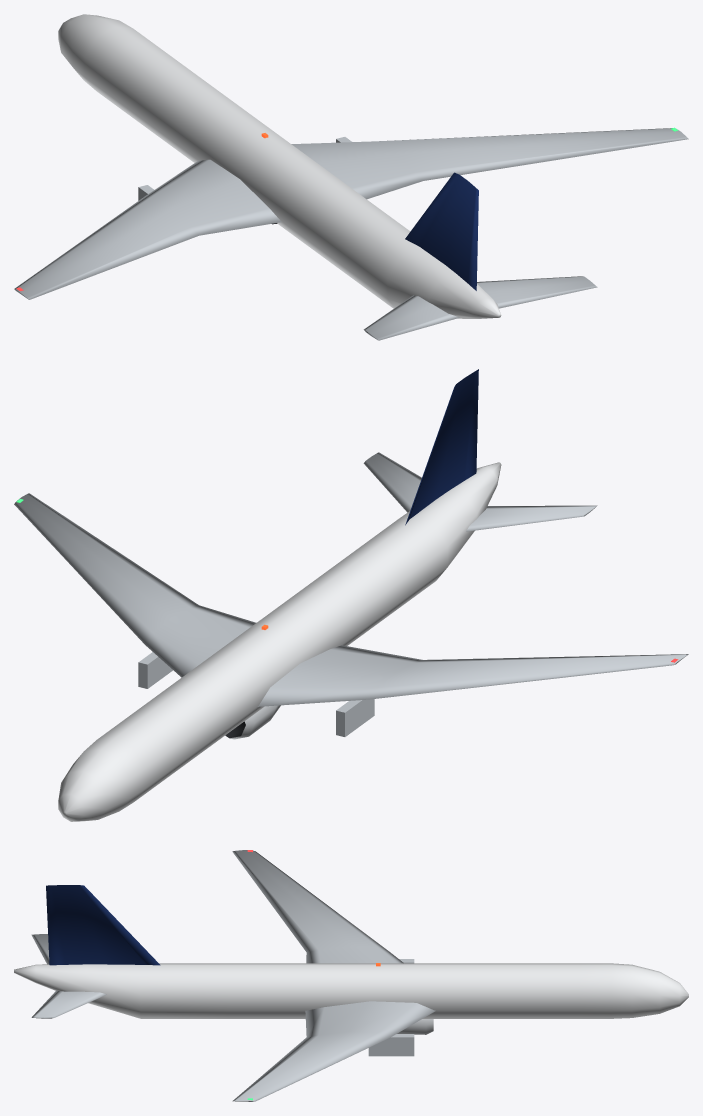
3 views of the same model, one above another, from view 1: azimuth 30°, elevation 25°; view 2: azimuth 150°, elevation 25°; view 3: azimuth 270°, elevation 25° (orthographic). The views are drawn at different scales.
Visible parts, largest first — view 1: b77w_lod2_white, b77w_lod2_wing, b77w_lod2_blue; view 2: b77w_lod2_white, b77w_lod2_wing, b77w_lod2_blue; view 3: b77w_lod2_white, b77w_lod2_wing, b77w_lod2_blue.
Boxes of the visible parts, x1=… form: b77w_lod2_white: x1=58, y1=14, x2=501, y2=318; b77w_lod2_wing: x1=14, y1=128, x2=688, y2=340; b77w_lod2_blue: x1=405, y1=172, x2=478, y2=290; b77w_lod2_white: x1=58, y1=462, x2=501, y2=821; b77w_lod2_wing: x1=14, y1=452, x2=688, y2=736; b77w_lod2_blue: x1=405, y1=369, x2=478, y2=525; b77w_lod2_white: x1=14, y1=963, x2=688, y2=1018; b77w_lod2_wing: x1=31, y1=850, x2=435, y2=1101; b77w_lod2_blue: x1=46, y1=885, x2=160, y2=965.
Size of the model in its own units: 64.8 by 17.96 by 73.9.
